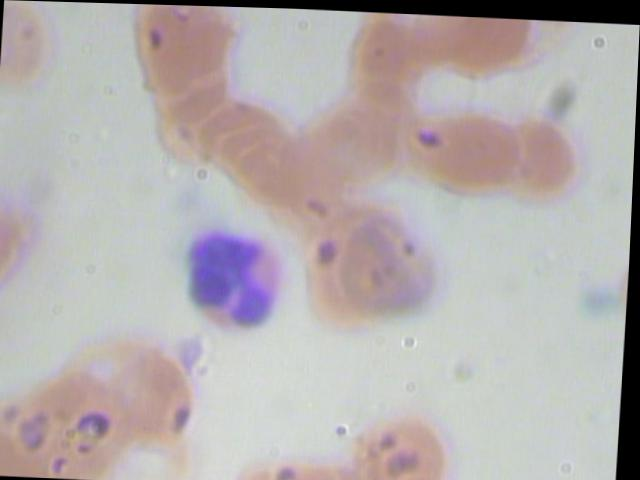Red Blood Cells: (339, 204, 459, 320), (110, 346, 222, 444), (402, 99, 516, 195), (291, 92, 402, 190), (126, 3, 238, 98), (489, 115, 604, 206), (351, 395, 465, 479)
White Blood Cells: (179, 225, 289, 335)
